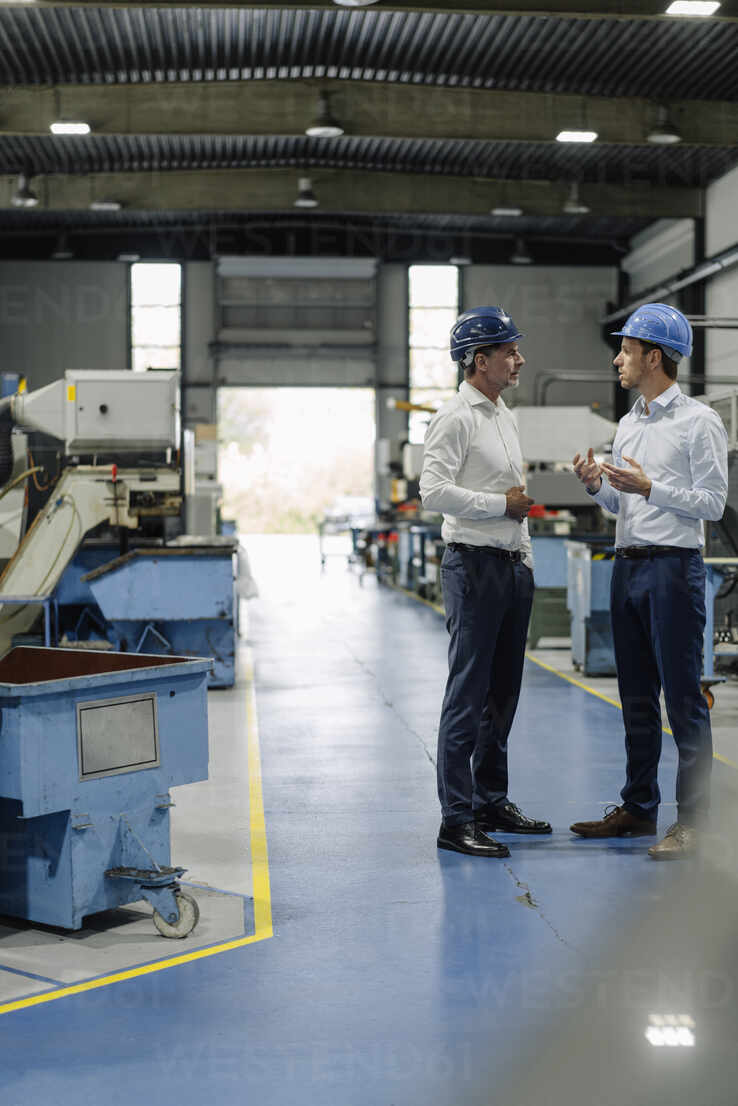person: (571, 307, 728, 855), (424, 310, 555, 856)
